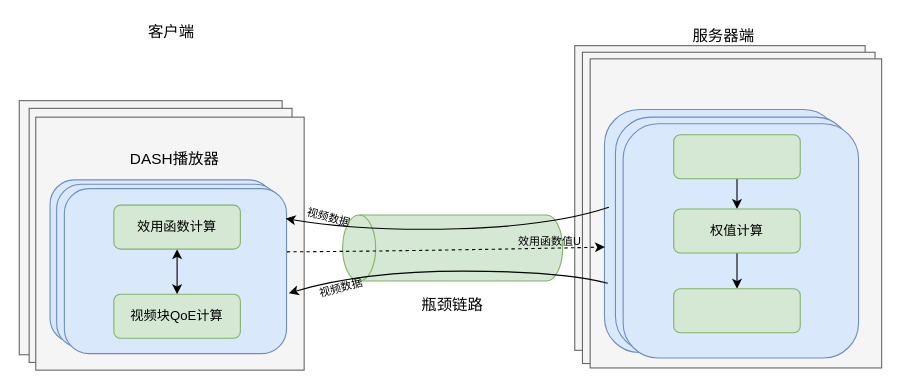
The diagram is 901 pixels wide and 389 high, and some of its shapes have lost their labels. Each missing label, with the centre of its shape:
"Copa参数更改" goes at point (736, 310).
"发送速率测量计算" goes at point (736, 156).
